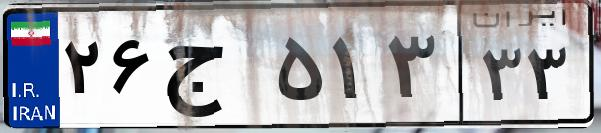1: (330, 28, 385, 110)
2: (57, 26, 110, 100)
3: (385, 28, 445, 110), (475, 38, 525, 113), (525, 38, 570, 115)
5: (270, 28, 330, 110)
6: (110, 28, 158, 98)
ج: (158, 20, 270, 120)
